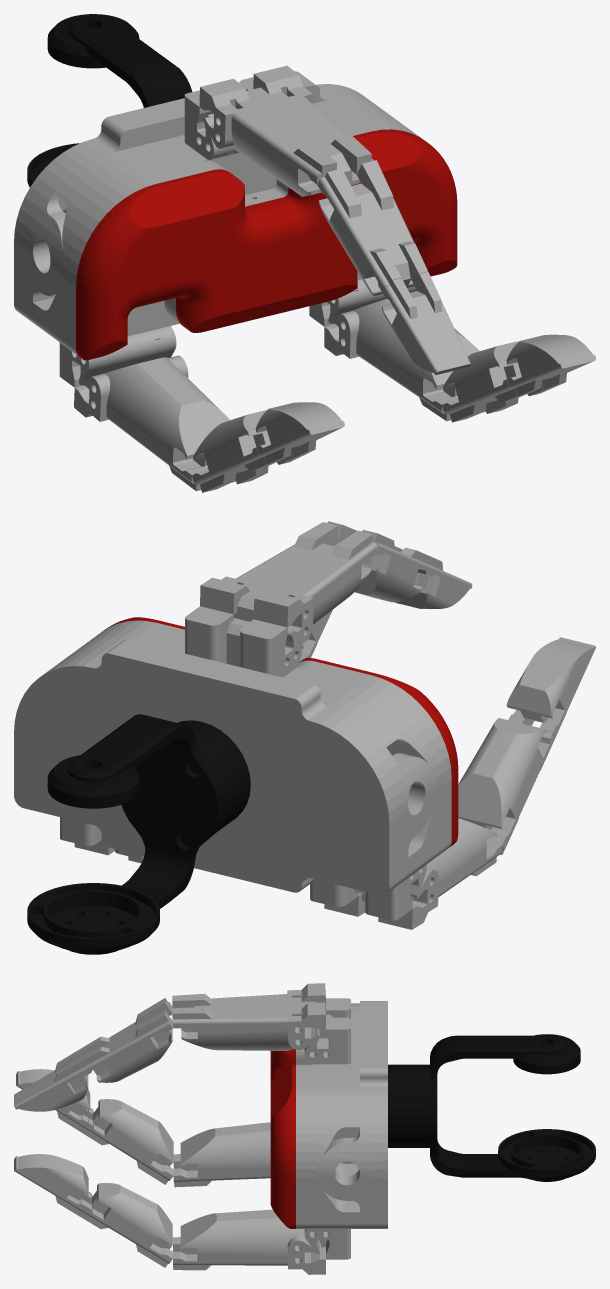
Rendered from HandO2.obj.
3 renders of one model, top to bottom at view 1: azimuth 30°, elevation 25°; view 2: azimuth 150°, elevation 25°; view 3: azimuth 270°, elevation 25°, orthographic. The views are drawn at different scales.
Parts seen in each view (by area): view 1: Hand_sep_-_palmPadMountingPAD-1_Hand_sep_-_palmPadMountingPAD-1., Hand_sep_-_Finger_Distal-3, Hand_sep_-_Finger_Proximal-2, Hand_sep_-_FingerMountingTopPlate-1, Hand_sep_-_Finger_Proximal-3, Hand_sep_-_ShaftSupport-1_Hand_sep_-_ShaftSupport-1.001, Hand_sep_-_Finger_Distal-2, Hand_sep_-_Finger_Distal-1, wrist_yaw_right.001, Hand_sep_-_Finger_Proximal-1, Hand_sep_-_eyeHookMountingPlate-1, Hand_sep_-_2015_12_28_Finger_New_baseOnly-3_Hand_sep_-_2015_12_2 (+4 smaller); view 2: Hand_sep_-_ShaftSupport_underplate-1_Hand_sep_-_ShaftSupport_und, wrist_yaw_right.001, Hand_sep_-_Finger_Distal-2, Hand_sep_-_Finger_Proximal-2, Hand_sep_-_ShaftSupport-1_Hand_sep_-_ShaftSupport-1.001, Hand_sep_-_FingerMountingTopPlate-1, wrist_yaw_right_flange.001, Hand_sep_-_2015_12_28_Finger_New_baseOnly-1_Hand_sep_-_2015_12_2, Hand_sep_-_Finger_Distal-3, Hand_sep_-_Finger_Proximal-3, Hand_sep_-_eyeHookMountingPlate-1, Cylinder (+3 smaller); view 3: Hand_sep_-_Finger_Proximal-2, Hand_sep_-_Finger_Proximal-1, Hand_sep_-_ShaftSupport-1_Hand_sep_-_ShaftSupport-1.001, Hand_sep_-_Finger_Distal-3, Hand_sep_-_Finger_Distal-1, wrist_yaw_right.001, Hand_sep_-_FingerMountingTopPlate-1, Hand_sep_-_Finger_Distal-2, Hand_sep_-_Finger_Proximal-3, Hand_sep_-_palmPadMountingPAD-1_Hand_sep_-_palmPadMountingPAD-1., wrist_yaw_right_flange.001, Cylinder (+4 smaller).
Part boxes in pixels (x1,y1,x2,y2): Hand_sep_-_palmPadMountingPAD-1_Hand_sep_-_palmPadMountingPAD-1.: (76,129,457,360); Hand_sep_-_Finger_Distal-3: (317,160,470,375); Hand_sep_-_Finger_Proximal-2: (199,65,373,196); Hand_sep_-_FingerMountingTopPlate-1: (33,97,412,347); Hand_sep_-_Finger_Proximal-3: (74,355,235,491); Hand_sep_-_ShaftSupport-1_Hand_sep_-_ShaftSupport-1.001: (18,74,380,323); Hand_sep_-_Finger_Distal-2: (192,402,344,492); Hand_sep_-_Finger_Distal-1: (442,334,595,422); wrist_yaw_right.001: (47,14,192,107); Hand_sep_-_Finger_Proximal-1: (324,299,485,421); Hand_sep_-_eyeHookMountingPlate-1: (64,121,421,355); Hand_sep_-_2015_12_28_Finger_New_baseOnly-3_Hand_sep_-_2015_12_2: (59,326,176,387); Hand_sep_-_ShaftSupport_underplate-1_Hand_sep_-_ShaftSupport_und: (14,650,393,895); wrist_yaw_right.001: (47,714,222,954); Hand_sep_-_Finger_Distal-2: (458,637,595,854); Hand_sep_-_Finger_Proximal-2: (200,522,377,642); Hand_sep_-_ShaftSupport-1_Hand_sep_-_ShaftSupport-1.001: (45,639,436,889); Hand_sep_-_FingerMountingTopPlate-1: (60,629,439,878); wrist_yaw_right_flange.001: (27,883,159,952); Hand_sep_-_2015_12_28_Finger_New_baseOnly-1_Hand_sep_-_2015_12_2: (185,606,301,677); Hand_sep_-_Finger_Distal-3: (327,521,472,608); Hand_sep_-_Finger_Proximal-3: (324,818,501,929); Hand_sep_-_eyeHookMountingPlate-1: (91,620,451,855); Cylinder: (177,720,250,842); Hand_sep_-_Finger_Proximal-2: (172,983,325,1050); Hand_sep_-_Finger_Proximal-1: (173,1209,325,1274); Hand_sep_-_ShaftSupport-1_Hand_sep_-_ShaftSupport-1.001: (317,1001,381,1228); Hand_sep_-_Finger_Distal-3: (14,998,172,1111); Hand_sep_-_Finger_Distal-1: (14,1154,172,1267); wrist_yaw_right.001: (430,1034,580,1181); Hand_sep_-_FingerMountingTopPlate-1: (313,1003,359,1228); Hand_sep_-_Finger_Distal-2: (16,1069,173,1184); Hand_sep_-_Finger_Proximal-3: (173,1122,270,1187); Hand_sep_-_palmPadMountingPAD-1_Hand_sep_-_palmPadMountingPAD-1.: (270,1049,295,1228); wrist_yaw_right_flange.001: (498,1129,595,1180); Cylinder: (388,1064,429,1147).
Bounding box in the file's own units: 0.15 × 0.1163 × 0.2734.
